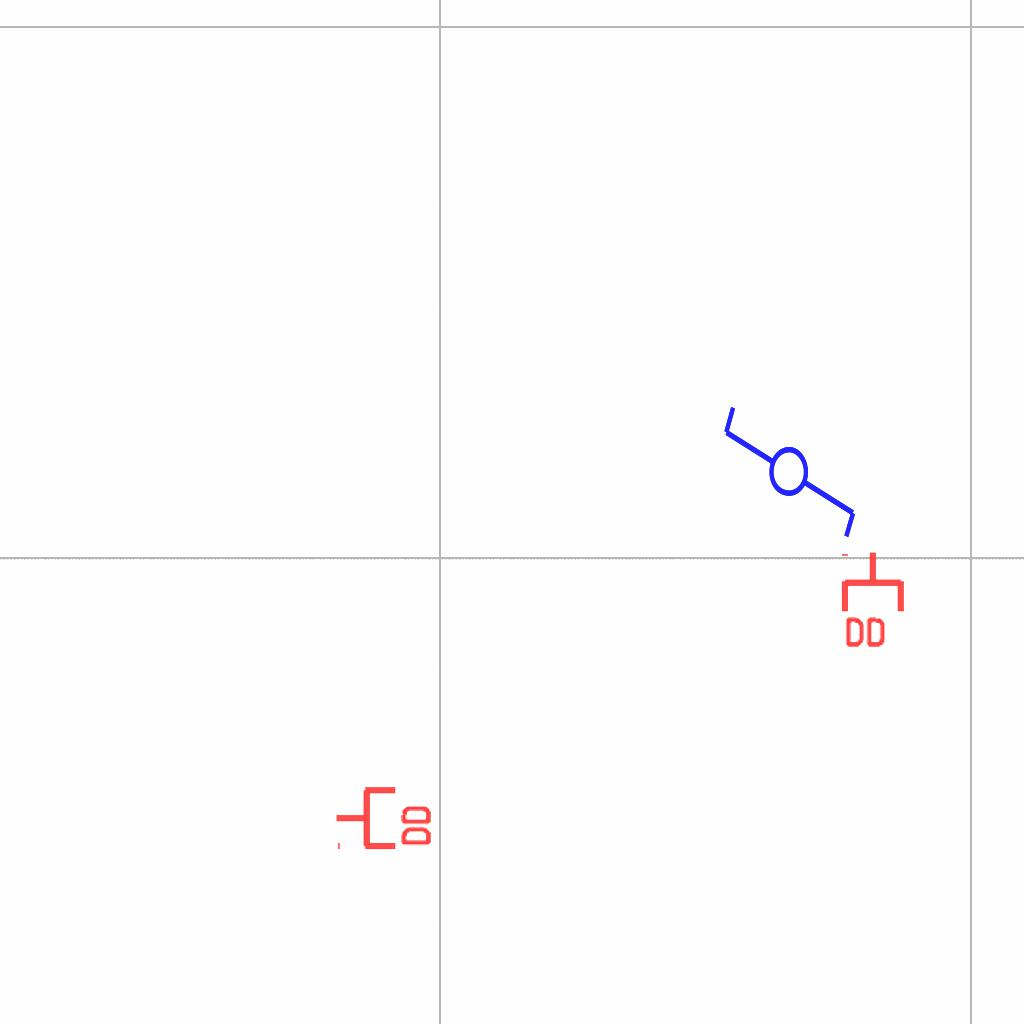Datenanschluss_zweifach: (840, 549, 909, 652), (333, 782, 436, 851)
Wechselschalter: (719, 385, 863, 542)
